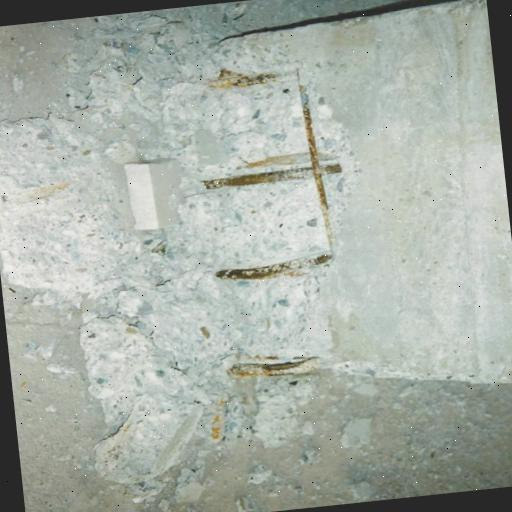spalling: (181, 53, 363, 381)
